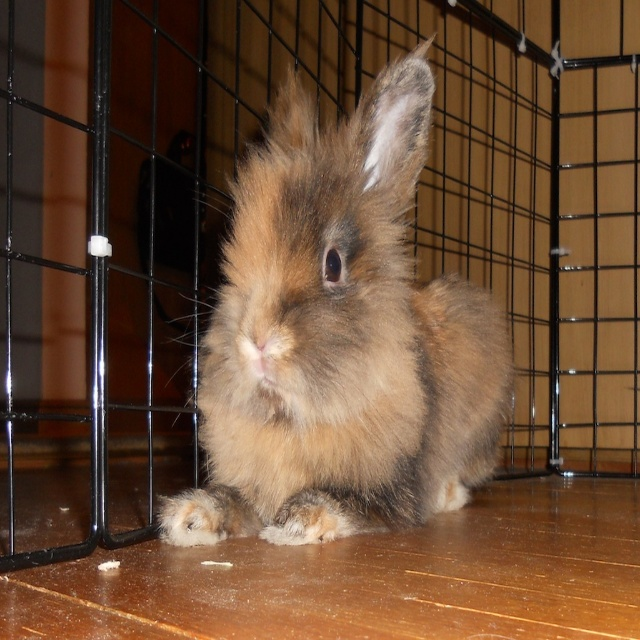Rabbit: (147, 32, 505, 552)
